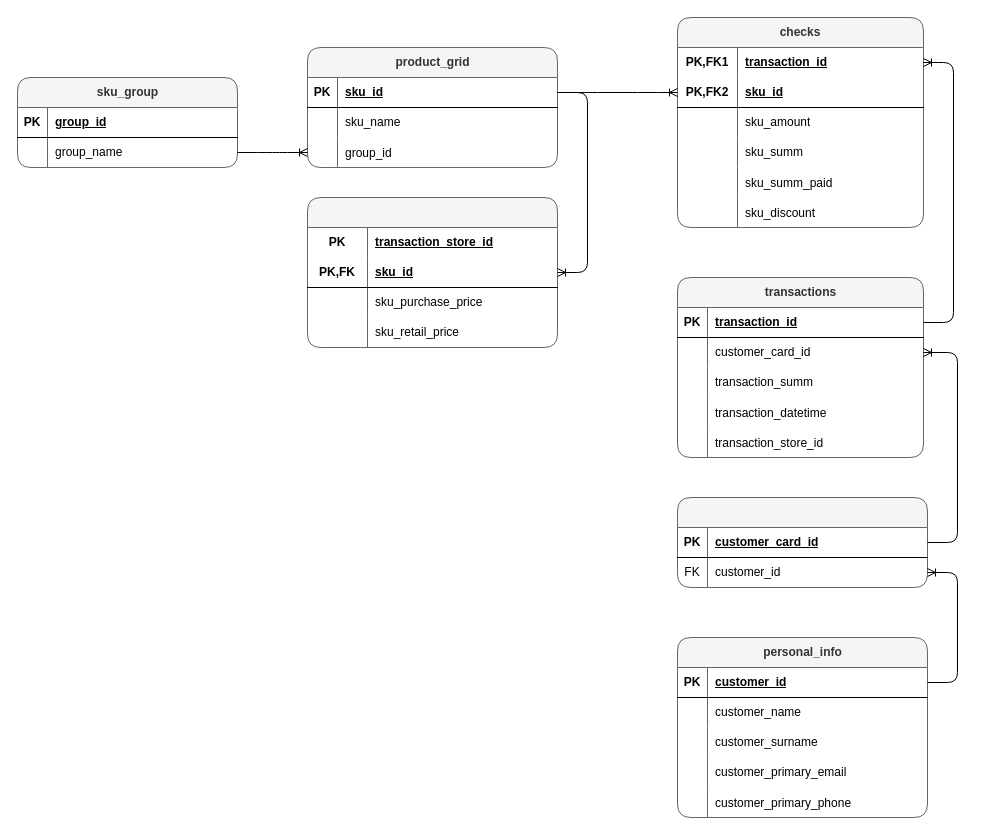
Image size: 983x835. Some labels were removed from this diagram. The shapes that lost their labels are listed below. From the top down, each one's box as (x1, y1, x2, y2) in pixels, then its label:
(306, 196, 558, 348): stores
(676, 496, 928, 588): cards
